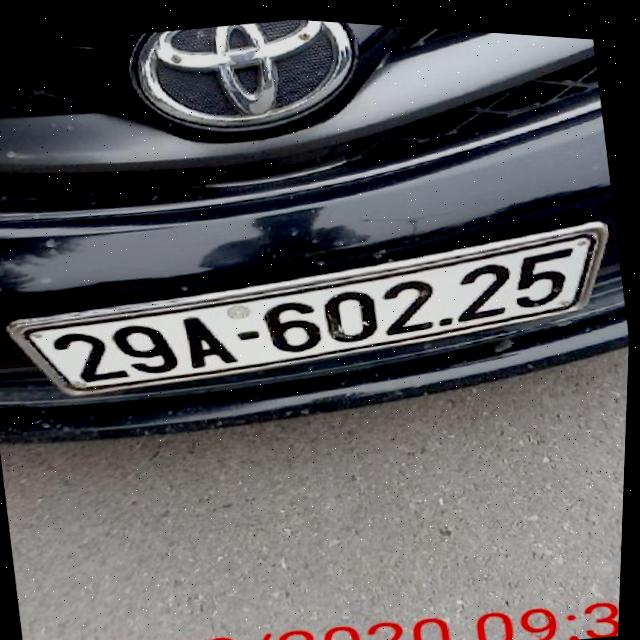car: (0, 0, 640, 493)
plate: (0, 180, 629, 449)
